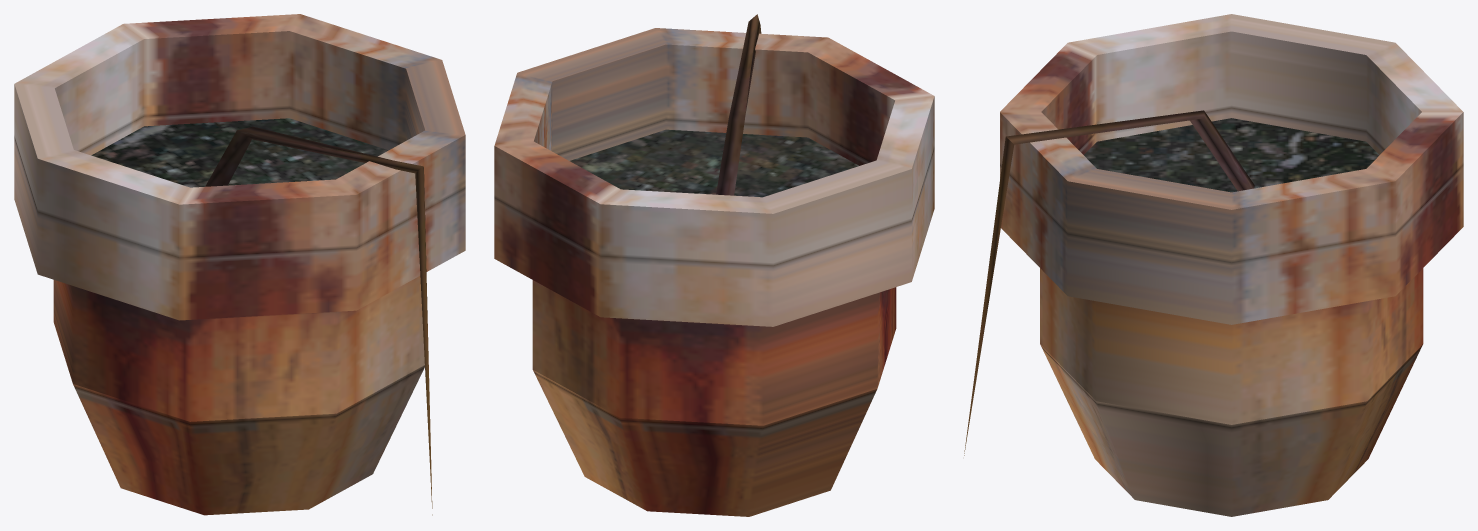
File: frn_quest_fs_plant_dead_l1.fbx
3 renders of one model, left to right at view 1: azimuth 30°, elevation 25°; view 2: azimuth 150°, elevation 25°; view 3: azimuth 270°, elevation 25°, orthographic. The views are drawn at different scales.
Visible parts, largest first — view 1: mesh_node; view 2: mesh_node; view 3: mesh_node.
Part boxes in pixels (x1,y1,x2,y2): mesh_node: (14, 14, 465, 515); mesh_node: (494, 14, 934, 516); mesh_node: (964, 14, 1463, 516).
Size of the model in its own units: 0.637 by 0.5403 by 0.6869.
1 material, 1 textured.
